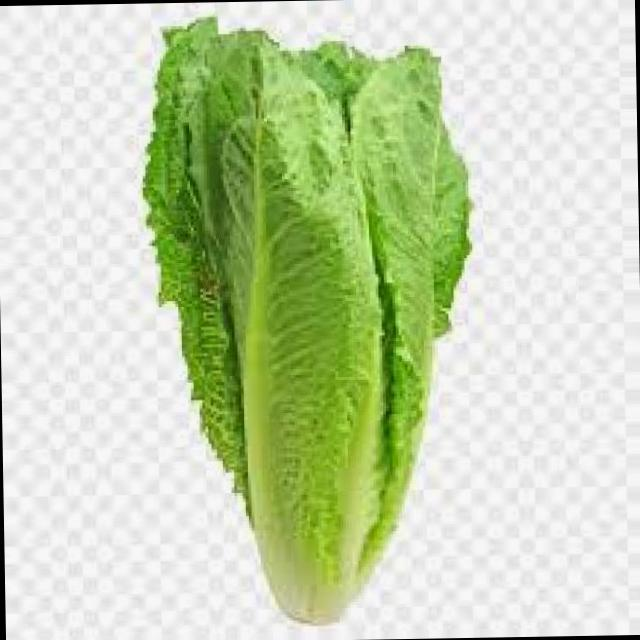Lettuce-Ready-to-Harvest: (144, 18, 469, 620)
